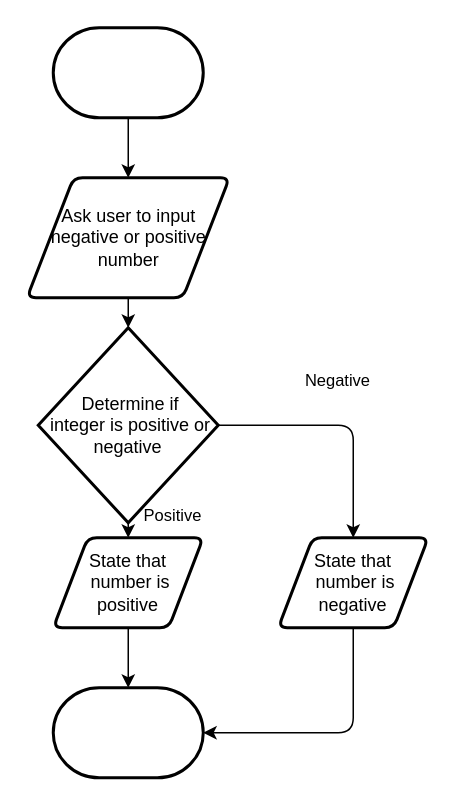
The diagram is 456 pixels wide and 804 high, and some of its shapes have lost their labels. Here are the shapes that lost their labels. From the top down, the box of each, then its label:
(51, 26, 204, 118): Start
(51, 686, 204, 778): Stop
